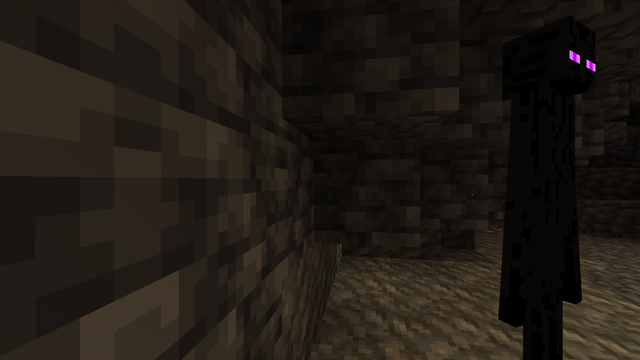endermens: (488, 2, 618, 358)
